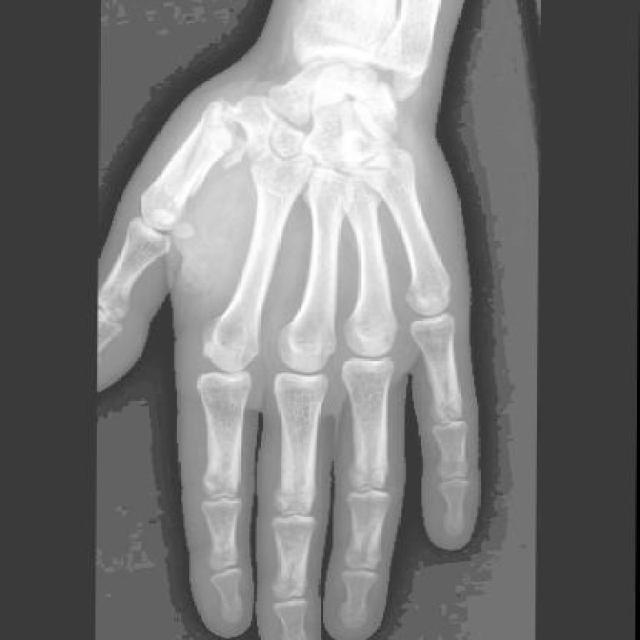Fracture: (174, 99, 256, 213)
